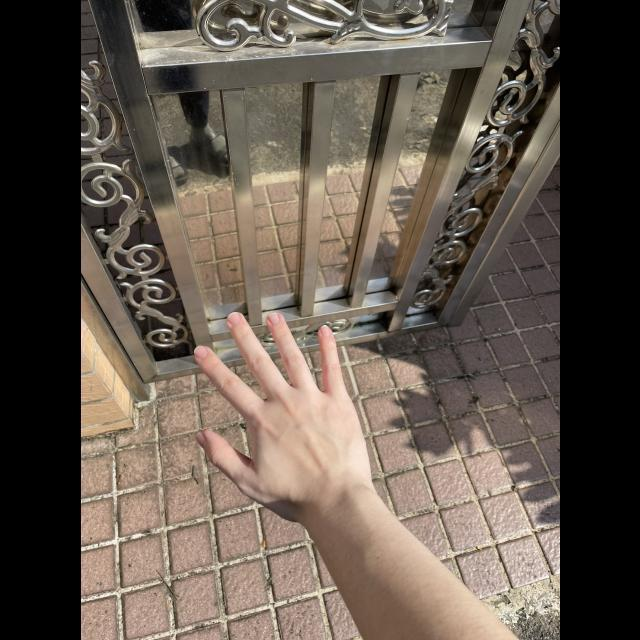bare_hand: (190, 306, 377, 523)
